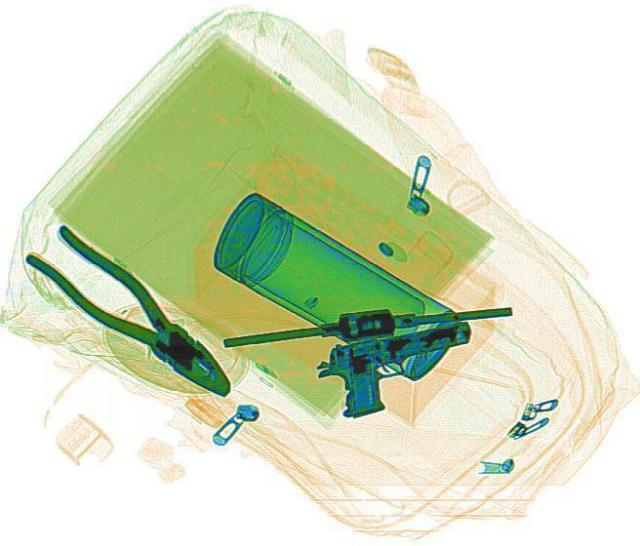Gun: (306, 316, 488, 419)
Pliers: (16, 217, 254, 410)
